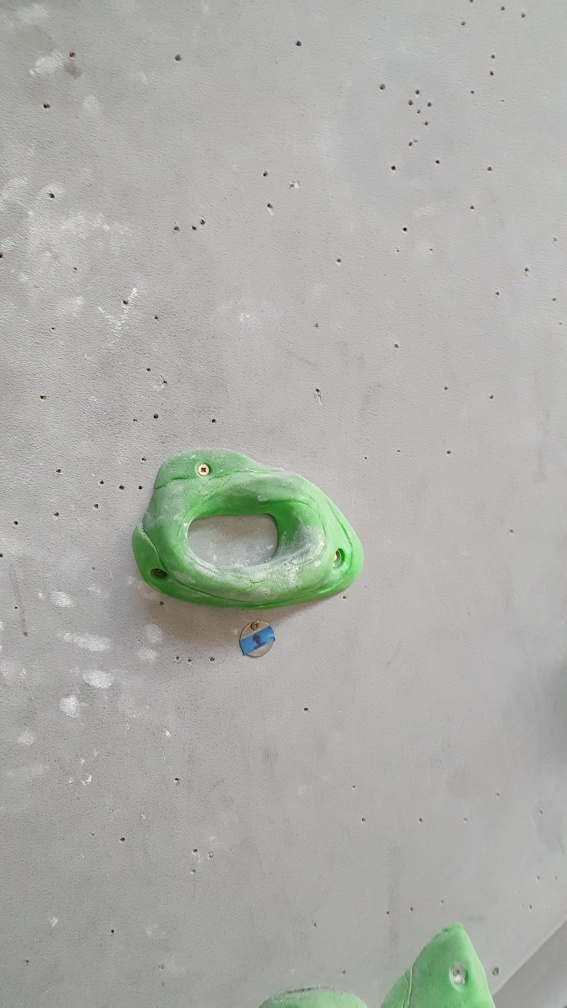Hand Start: (236, 620, 281, 668)
Pocket: (133, 444, 364, 613)
